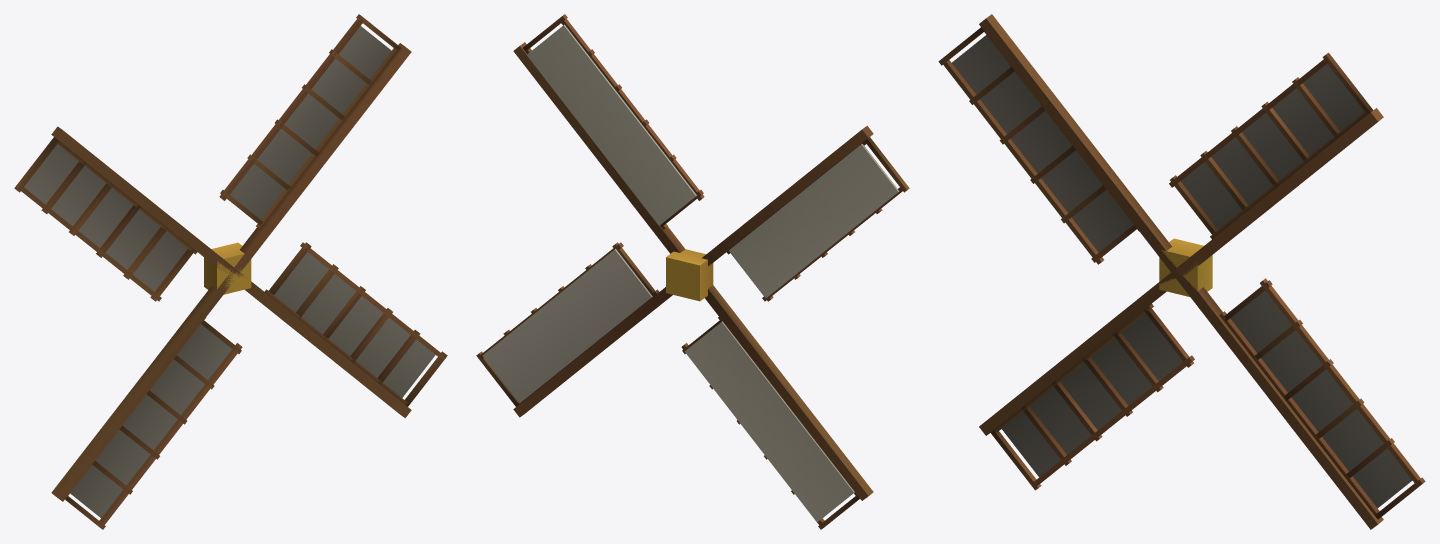
The model's file is Windmill_Sails.fbx.
The picture shows the model from 3 angles, left to right: view 1: azimuth 30°, elevation 25°; view 2: azimuth 150°, elevation 25°; view 3: azimuth 330°, elevation 25°; orthographic projection. The views are drawn at different scales.
Visible parts, largest first — view 1: Windmill_Sails; view 2: Windmill_Sails; view 3: Windmill_Sails.
Part boxes in pixels (x1,y1,x2,y2): Windmill_Sails: [14, 14, 447, 529]; Windmill_Sails: [476, 14, 909, 529]; Windmill_Sails: [938, 14, 1425, 529].
Bounding box in the file's own units: 9.44 × 9.44 × 0.5.
